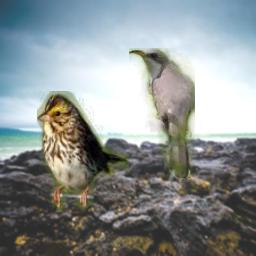Cuckoo: (129, 48, 195, 178)
Sparrow: (37, 91, 129, 212)
